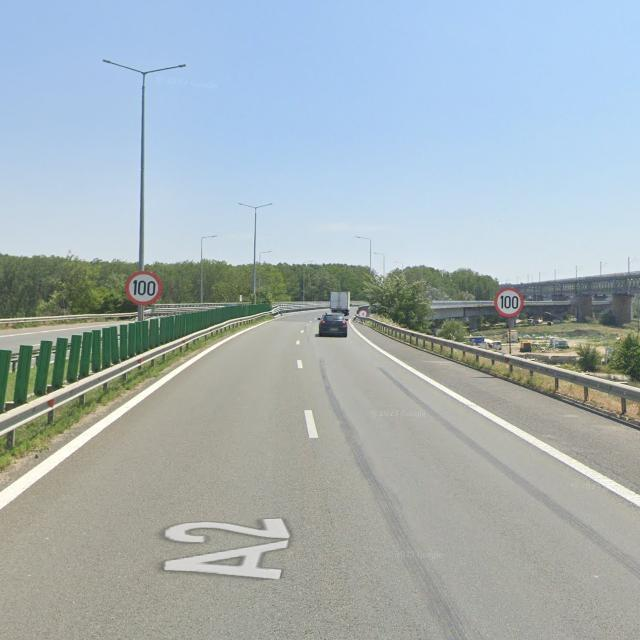forb_speed_over_100: (126, 270, 162, 305), (494, 288, 524, 317)
